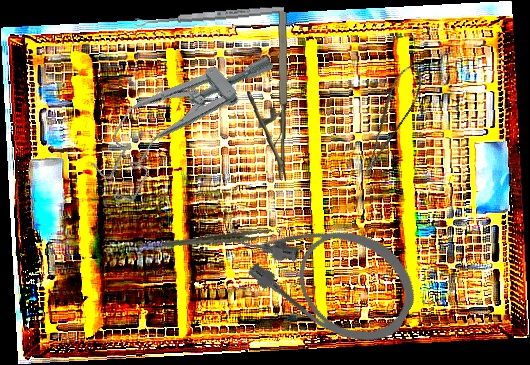Cannula: (218, 181, 432, 361)
Micro Scissor: (345, 57, 434, 178)
Needle Holder: (244, 10, 292, 181)
Speculum: (75, 20, 285, 211)
Surgical Spoon: (133, 4, 285, 28)
Tissue Forceps: (164, 220, 274, 257)
